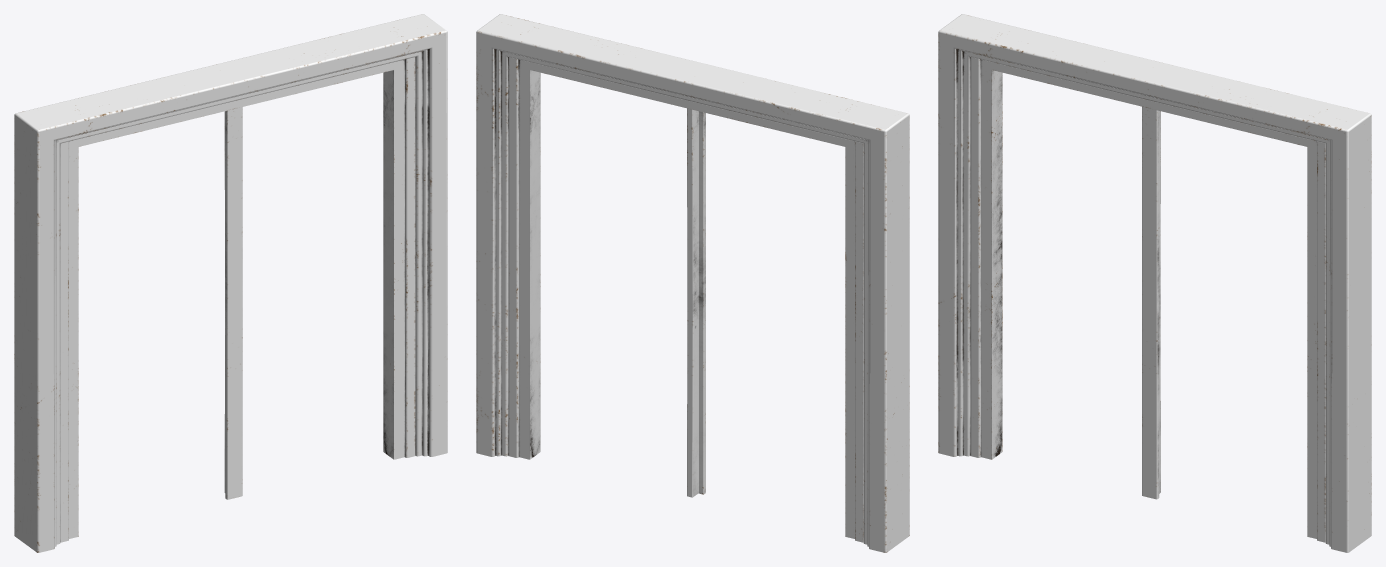
Rendered from door_white_wooden_frame_clean.glb.
3 renders of one model, left to right at view 1: azimuth 30°, elevation 25°; view 2: azimuth 150°, elevation 25°; view 3: azimuth 330°, elevation 25°, orthographic.
Parts seen in each view (by area): view 1: door_white_wooden_frame_clean; view 2: door_white_wooden_frame_clean; view 3: door_white_wooden_frame_clean.
Part boxes in pixels (bbox=[...]): door_white_wooden_frame_clean: bbox=[14, 14, 447, 552]; door_white_wooden_frame_clean: bbox=[476, 14, 909, 552]; door_white_wooden_frame_clean: bbox=[938, 14, 1371, 552].
Size of the model in its own units: 2.26 by 2.22 by 0.2302.
1 material, 1 textured.
